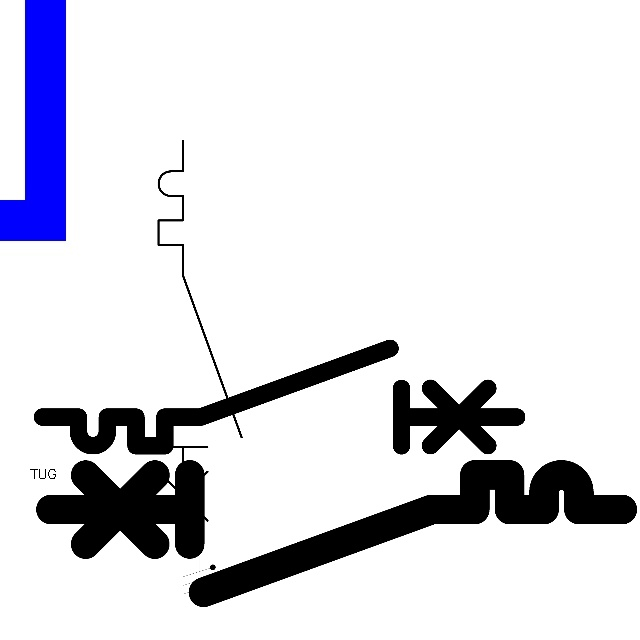interruptor_termomagnetico: (36, 460, 637, 607), (30, 336, 529, 458), (148, 130, 252, 555)
